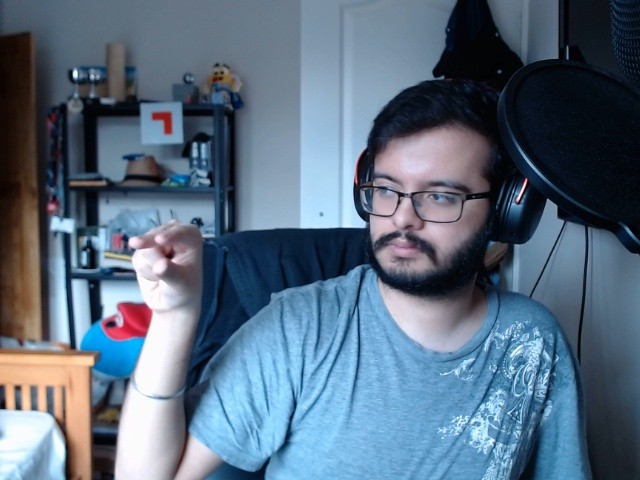No: (120, 211, 216, 331)
